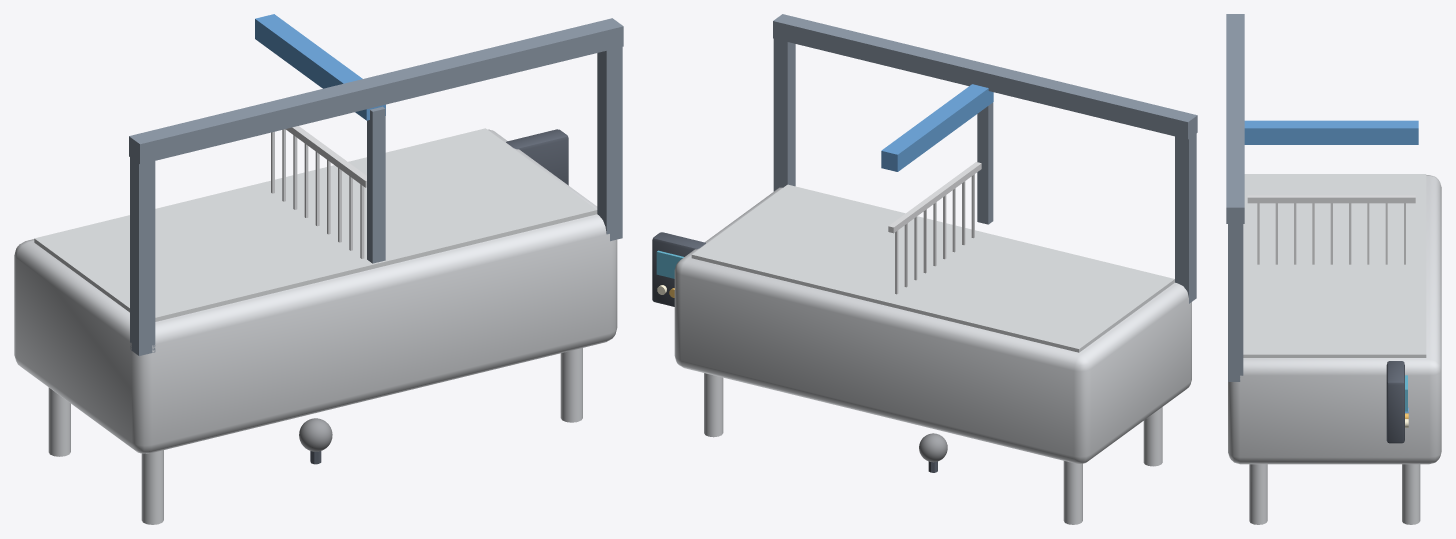
Rendered from Wanna.fbx.
3 views of the same model, side by side, from view 1: azimuth 30°, elevation 25°; view 2: azimuth 150°, elevation 25°; view 3: azimuth 270°, elevation 25° (orthographic). The views are drawn at different scales.
Parts seen in each view (by area): view 1: Maszyna_Wanna_Korpus, Maszyna_Wanna_Harfa, Maszyna_Wanna_Lampka; view 2: Maszyna_Wanna_Korpus, Maszyna_Wanna_Harfa, Maszyna_Wanna_Lampka; view 3: Maszyna_Wanna_Korpus, Maszyna_Wanna_Harfa.
Part boxes in pixels (left/top/right/bottom): Maszyna_Wanna_Korpus: left=14, top=18, right=623, bottom=524; Maszyna_Wanna_Harfa: left=255, top=14, right=385, bottom=263; Maszyna_Wanna_Lampka: left=299, top=418, right=332, bottom=464; Maszyna_Wanna_Korpus: left=652, top=14, right=1197, bottom=524; Maszyna_Wanna_Harfa: left=881, top=84, right=993, bottom=294; Maszyna_Wanna_Lampka: left=919, top=433, right=947, bottom=472; Maszyna_Wanna_Korpus: left=1226, top=14, right=1441, bottom=524; Maszyna_Wanna_Harfa: left=1244, top=120, right=1418, bottom=264.
Bounding box in the file's own units: 3.27 × 2.52 × 1.41.
